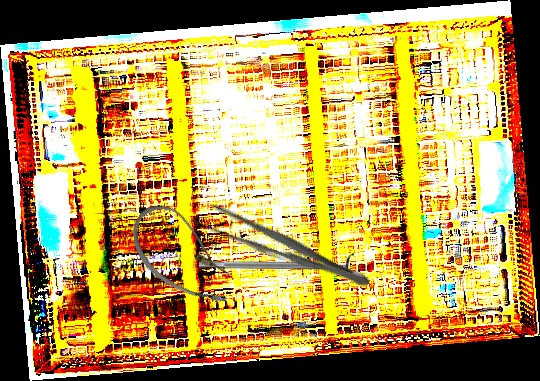Cannula: (116, 194, 252, 317)
Dressing Forceps: (188, 197, 375, 297)
Fixation Ring: (199, 252, 354, 277)
